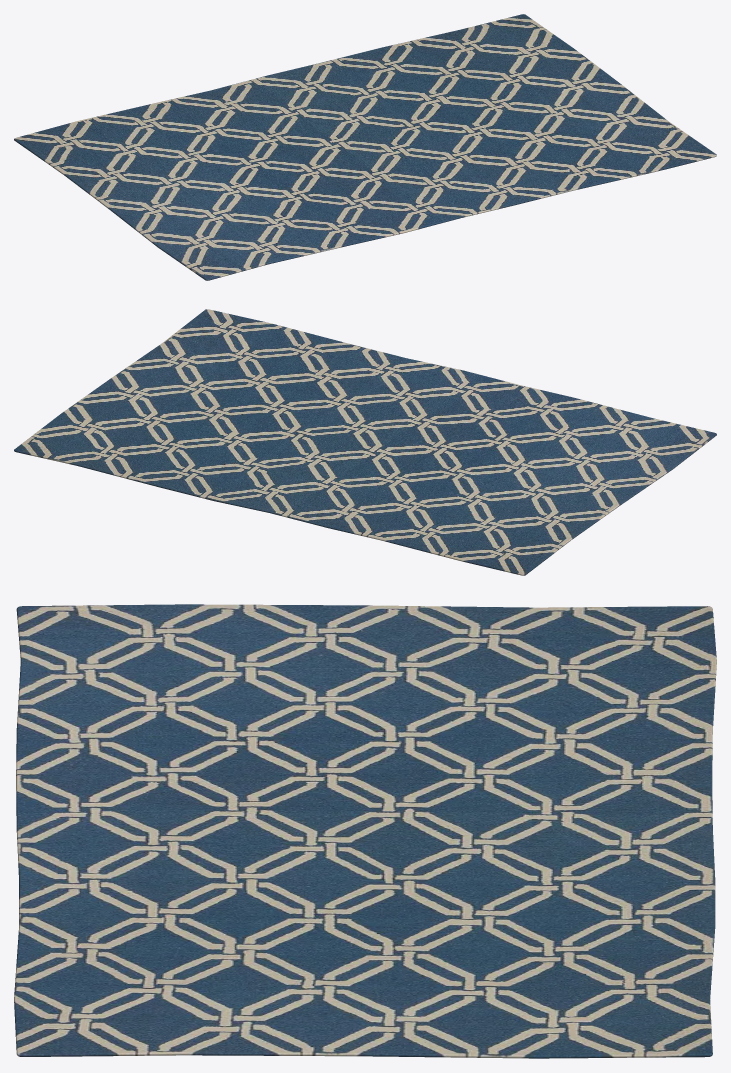
Rendered from abo-B071W31P5D.glb.
3 renders of one model, top to bottom at view 1: azimuth 30°, elevation 25°; view 2: azimuth 150°, elevation 25°; view 3: azimuth 270°, elevation 25°, orthographic. The views are drawn at different scales.
Size of the model in its own units: 1.76 by 0.00996 by 1.15.
1 material, 1 textured.
